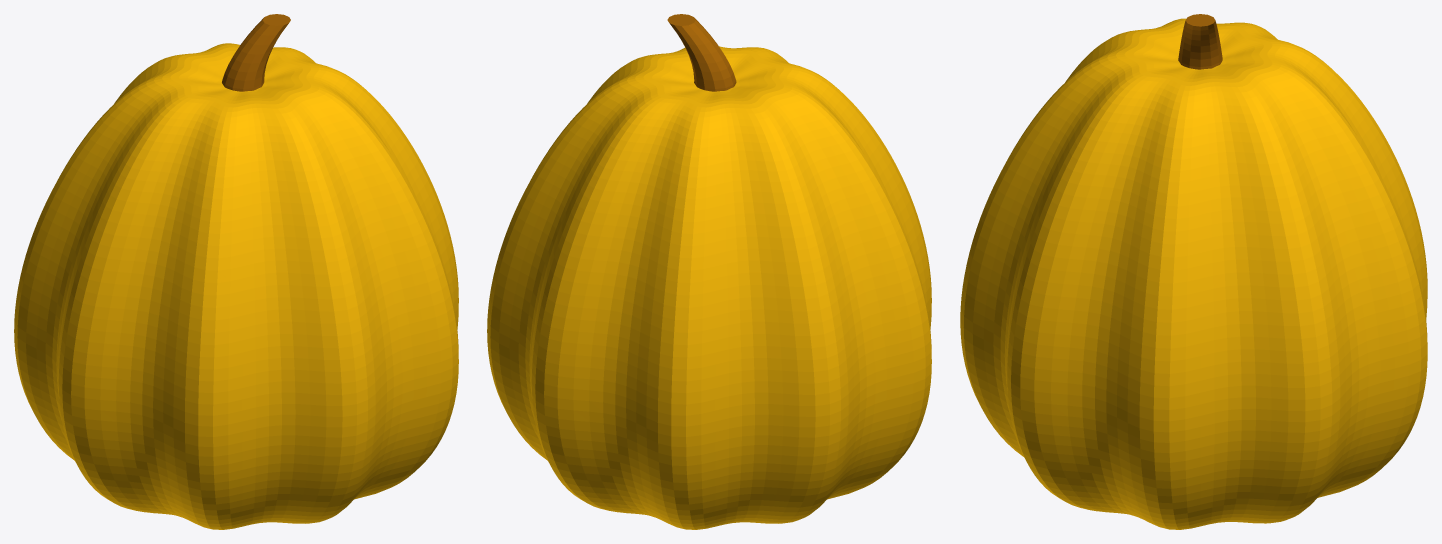
File: pear.glb
3 renders of one model, left to right at view 1: azimuth 30°, elevation 25°; view 2: azimuth 150°, elevation 25°; view 3: azimuth 270°, elevation 25°, orthographic. The views are drawn at different scales.
Parts seen in each view (by area): view 1: body, lid, stem; view 2: body, lid, stem; view 3: body, lid, stem.
Boxes of the visible parts, x1,y1,x2,y2 form: body: [14, 83, 458, 529]; lid: [101, 43, 376, 177]; stem: [222, 14, 290, 91]; body: [487, 83, 931, 529]; lid: [574, 46, 849, 177]; stem: [667, 14, 736, 91]; body: [960, 60, 1427, 529]; lid: [1052, 18, 1340, 159]; stem: [1178, 14, 1222, 69].
Size of the model in its own units: 2.06 by 2.26 by 2.03.
